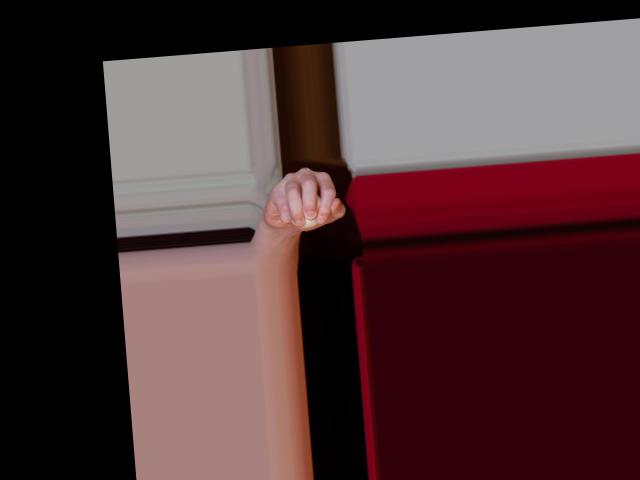egg: (289, 192, 327, 229)
